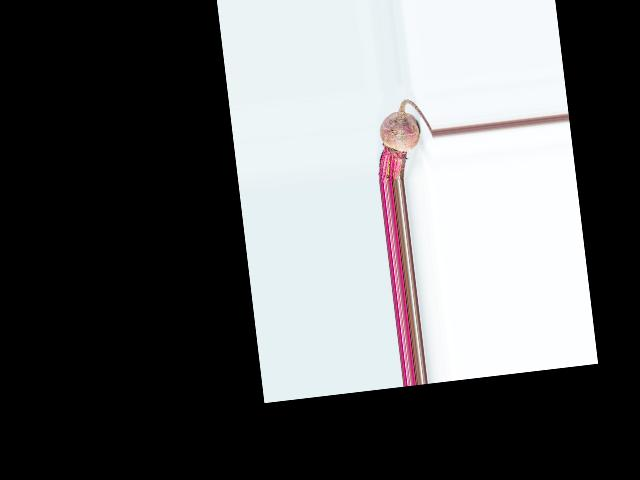beet: (369, 97, 437, 183)
